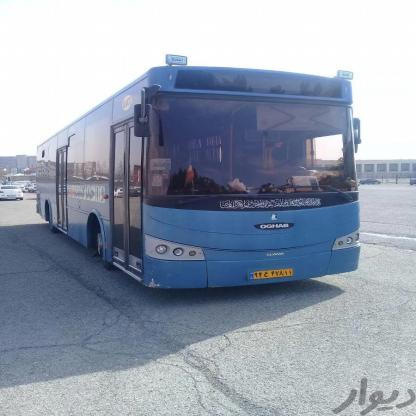Bus: (33, 52, 367, 304)
Car: (0, 180, 19, 205)
